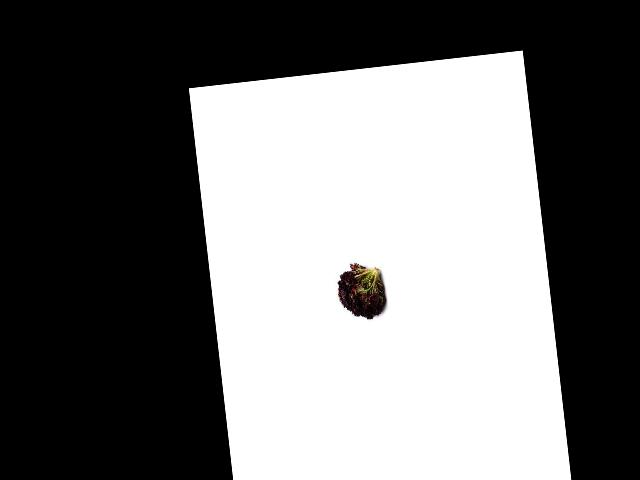lettuce: (333, 262, 391, 325)
